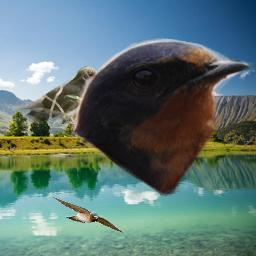Cuckoo: (12, 66, 107, 124)
Swallow: (71, 37, 256, 197), (51, 195, 125, 233)
